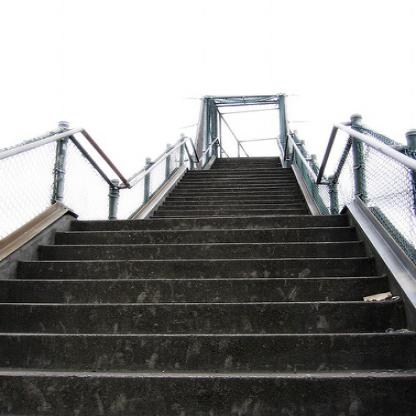stairs: (109, 218, 342, 416)
